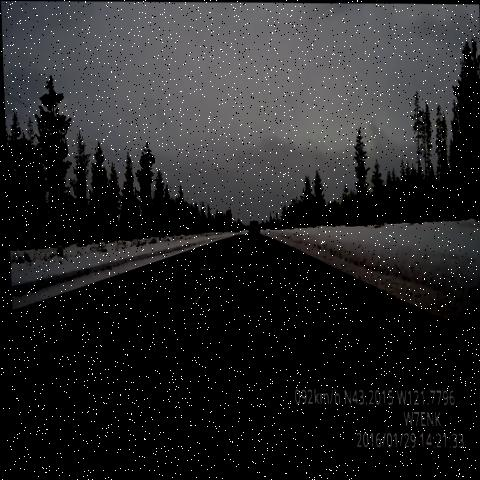pothole: (177, 272, 202, 290), (191, 259, 214, 275)
